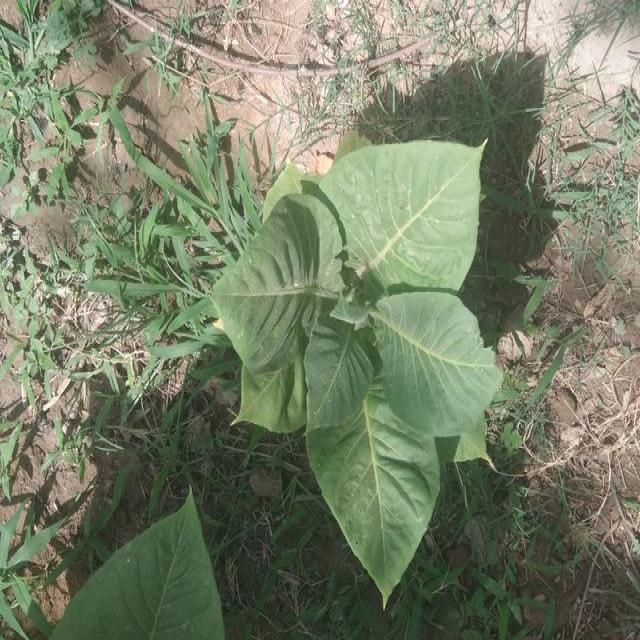crop: (208, 125, 519, 615)
